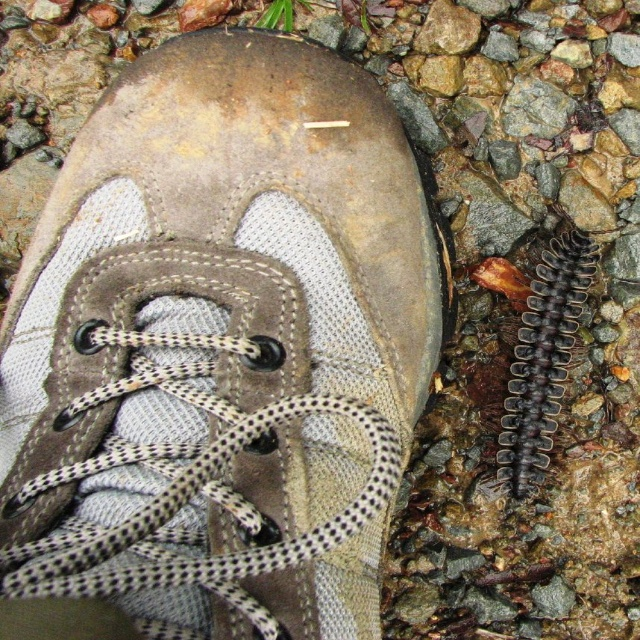Centipede: (446, 207, 618, 523)
